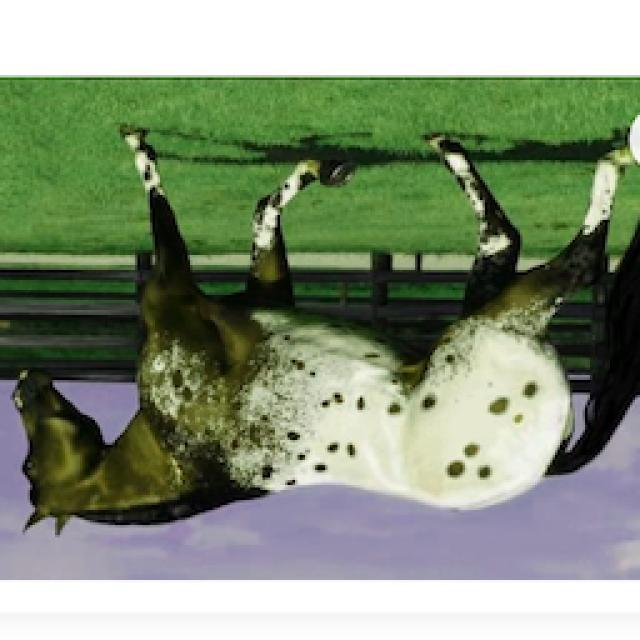Horse: (0, 117, 638, 545)
